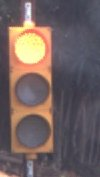Red: (5, 17, 53, 161)
